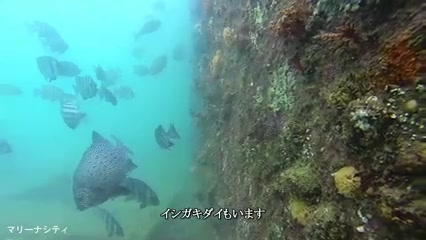ishidai: (63, 91, 86, 132)
smallfish: (69, 133, 137, 212), (112, 166, 160, 209), (149, 115, 180, 148)
